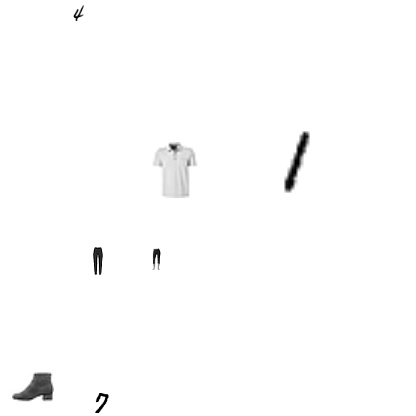1: (252, 120, 336, 204)
4: (67, 3, 89, 25)
7: (87, 387, 115, 415)
Ankle_boot: (12, 365, 54, 407)
T-shirt/top: (147, 142, 203, 198)
Trouser: (84, 247, 112, 275), (145, 248, 167, 270)
